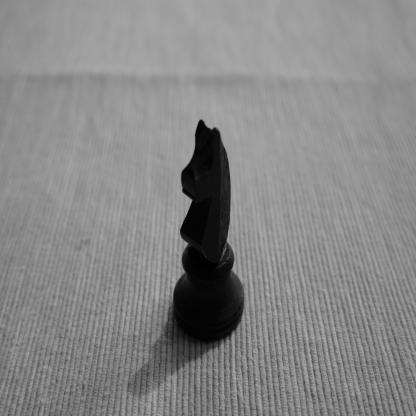black-knight: (171, 119, 246, 344)
